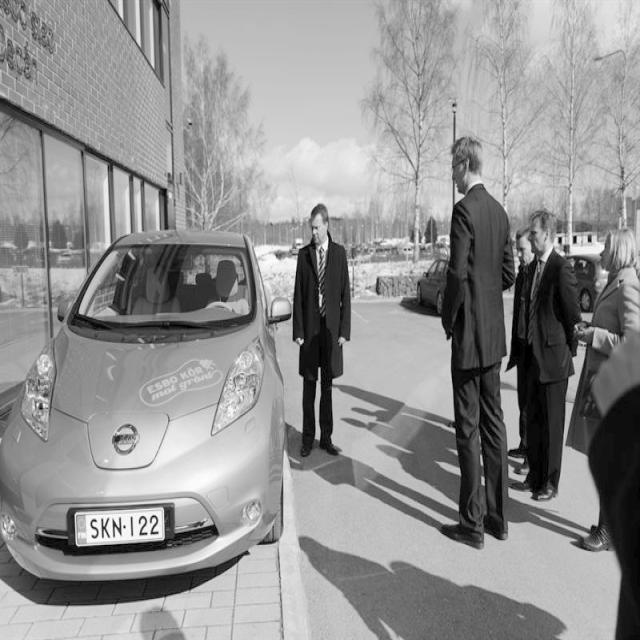car: (0, 228, 292, 582)
plat_license: (74, 504, 165, 547)
